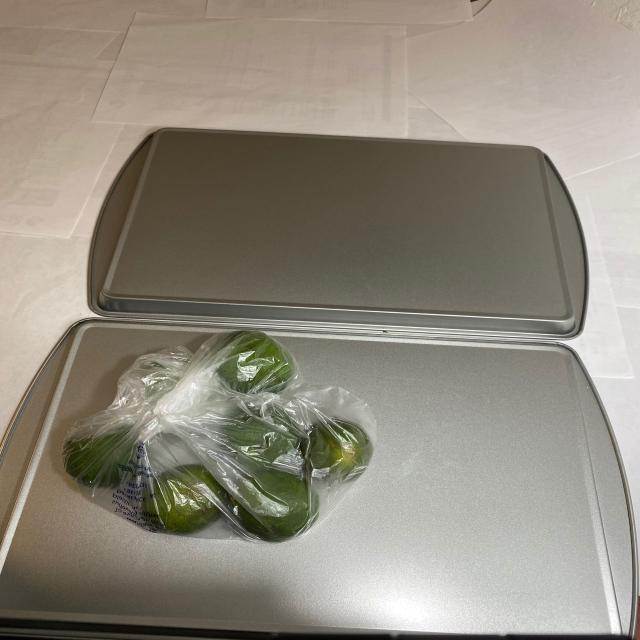lemon: (61, 332, 372, 544)
